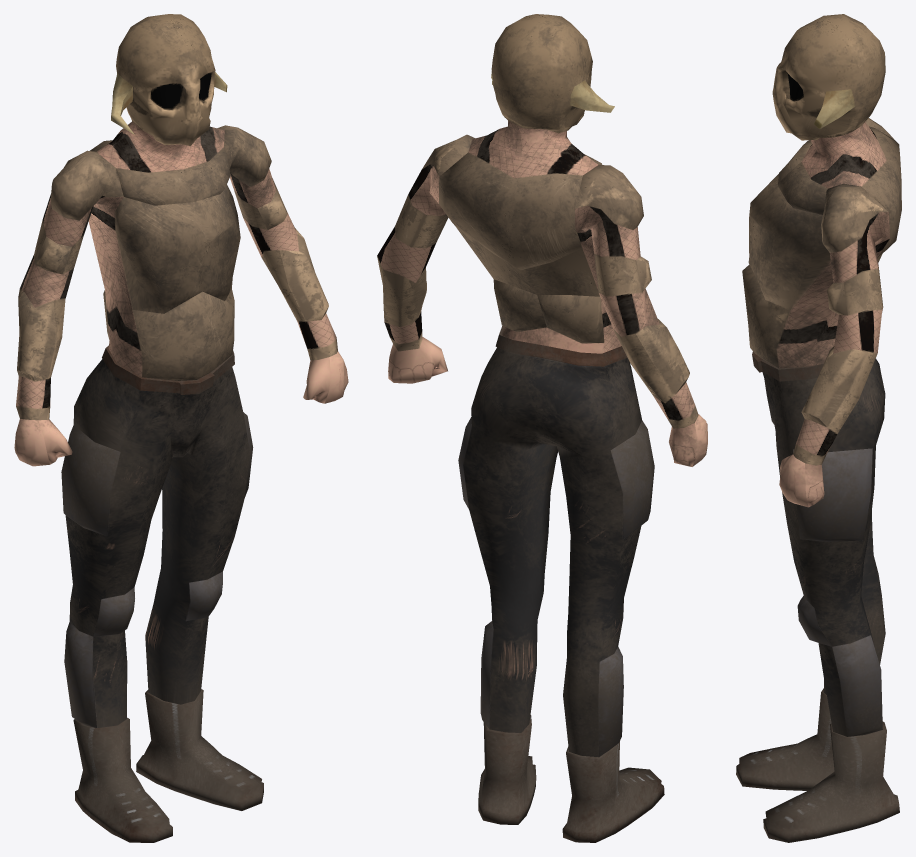
The model's file is Anim_interruptor_npc1.0038.obj.
3 views of the same model, side by side, from view 1: azimuth 30°, elevation 25°; view 2: azimuth 150°, elevation 25°; view 3: azimuth 270°, elevation 25° (orthographic).
Visible parts, largest first — view 1: NPC2; view 2: NPC2; view 3: NPC2.
Part boxes in pixels (bbox=[...]): NPC2: bbox=[14, 14, 348, 842]; NPC2: bbox=[377, 14, 707, 842]; NPC2: bbox=[736, 14, 901, 842].
Bounding box in the file's own units: 4.15 × 9.66 × 1.84.
